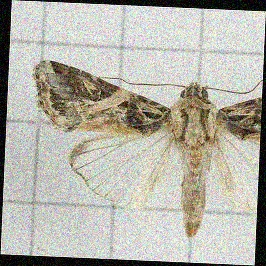Spodoptera litura: (28, 64, 259, 237)
